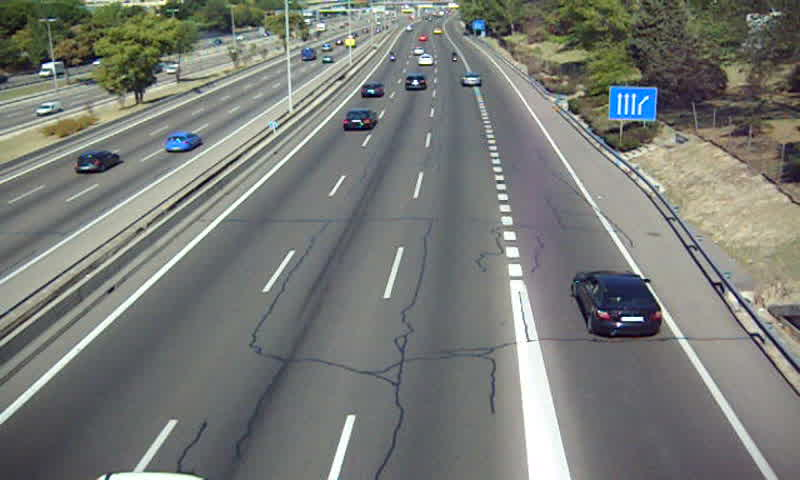car: (576, 273, 662, 337), (342, 109, 375, 131), (403, 74, 427, 92), (360, 82, 383, 100), (460, 72, 482, 88), (416, 53, 435, 66)
